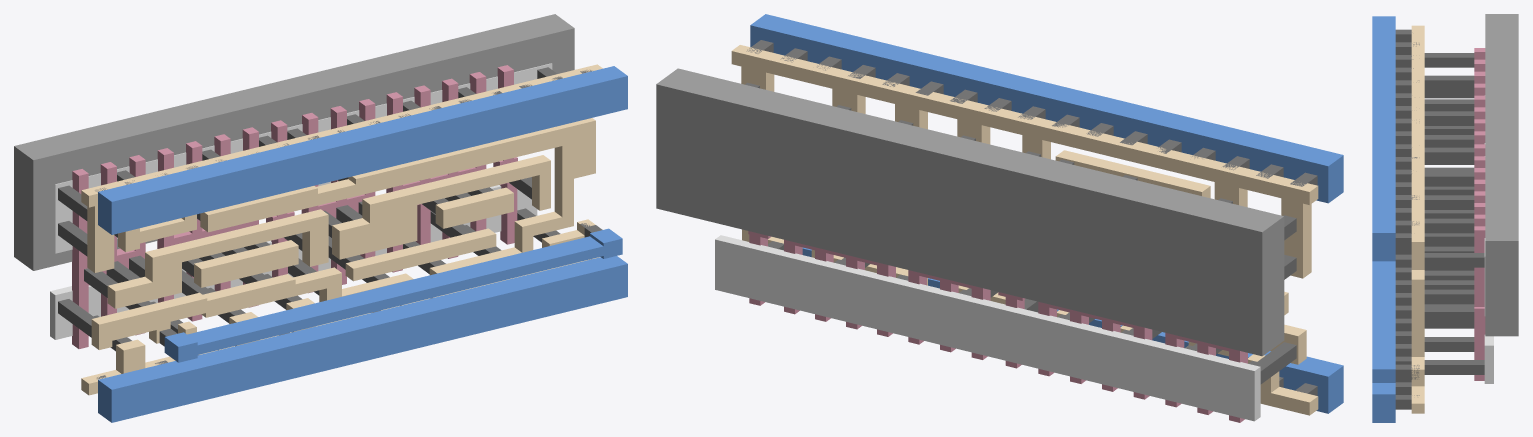
The model's file is sky130_fd_sc_hd__o211ai_4.gds.gltf.
3 renders of one model, left to right at view 1: azimuth 30°, elevation 25°; view 2: azimuth 150°, elevation 25°; view 3: azimuth 270°, elevation 25°, orthographic. The views are drawn at different scales.
Visible parts, largest first — view 1: sky130_fd_sc_hd__o211ai_4_met1, sky130_fd_sc_hd__o211ai_4_li1, sky130_fd_sc_hd__o211ai_4_nwell, sky130_fd_sc_hd__o211ai_4_poly, sky130_fd_sc_hd__o211ai_4_licon, sky130_fd_sc_hd__o211ai_4_diff, sky130_fd_sc_hd__o211ai_4_mcon; view 2: sky130_fd_sc_hd__o211ai_4_nwell, sky130_fd_sc_hd__o211ai_4_diff, sky130_fd_sc_hd__o211ai_4_li1, sky130_fd_sc_hd__o211ai_4_met1, sky130_fd_sc_hd__o211ai_4_poly, sky130_fd_sc_hd__o211ai_4_mcon, sky130_fd_sc_hd__o211ai_4_licon; view 3: sky130_fd_sc_hd__o211ai_4_licon, sky130_fd_sc_hd__o211ai_4_nwell, sky130_fd_sc_hd__o211ai_4_met1, sky130_fd_sc_hd__o211ai_4_mcon, sky130_fd_sc_hd__o211ai_4_li1, sky130_fd_sc_hd__o211ai_4_poly, sky130_fd_sc_hd__o211ai_4_diff.
Boxes of the visible parts, box(x1,y1,x2,y2) form: sky130_fd_sc_hd__o211ai_4_met1: box(98, 66, 627, 422); sky130_fd_sc_hd__o211ai_4_li1: box(81, 64, 602, 395); sky130_fd_sc_hd__o211ai_4_nwell: box(14, 14, 574, 270); sky130_fd_sc_hd__o211ai_4_poly: box(72, 65, 517, 348); sky130_fd_sc_hd__o211ai_4_licon: box(58, 67, 560, 351); sky130_fd_sc_hd__o211ai_4_diff: box(50, 63, 552, 339); sky130_fd_sc_hd__o211ai_4_mcon: box(95, 70, 602, 379); sky130_fd_sc_hd__o211ai_4_nwell: box(656, 68, 1284, 356); sky130_fd_sc_hd__o211ai_4_diff: box(715, 235, 1260, 421); sky130_fd_sc_hd__o211ai_4_li1: box(731, 45, 1318, 415); sky130_fd_sc_hd__o211ai_4_met1: box(750, 14, 1343, 413); sky130_fd_sc_hd__o211ai_4_poly: box(748, 231, 1247, 422); sky130_fd_sc_hd__o211ai_4_mcon: box(746, 40, 1317, 395); sky130_fd_sc_hd__o211ai_4_licon: box(745, 82, 1296, 384); sky130_fd_sc_hd__o211ai_4_licon: box(1424, 53, 1484, 374); sky130_fd_sc_hd__o211ai_4_nwell: box(1485, 14, 1518, 336); sky130_fd_sc_hd__o211ai_4_met1: box(1372, 16, 1395, 422); sky130_fd_sc_hd__o211ai_4_mcon: box(1395, 29, 1419, 409); sky130_fd_sc_hd__o211ai_4_li1: box(1411, 25, 1424, 413); sky130_fd_sc_hd__o211ai_4_poly: box(1474, 48, 1485, 380); sky130_fd_sc_hd__o211ai_4_diff: box(1484, 143, 1493, 383).
Size of the model in its own units: 8.2 by 3.2 by 2.24.
